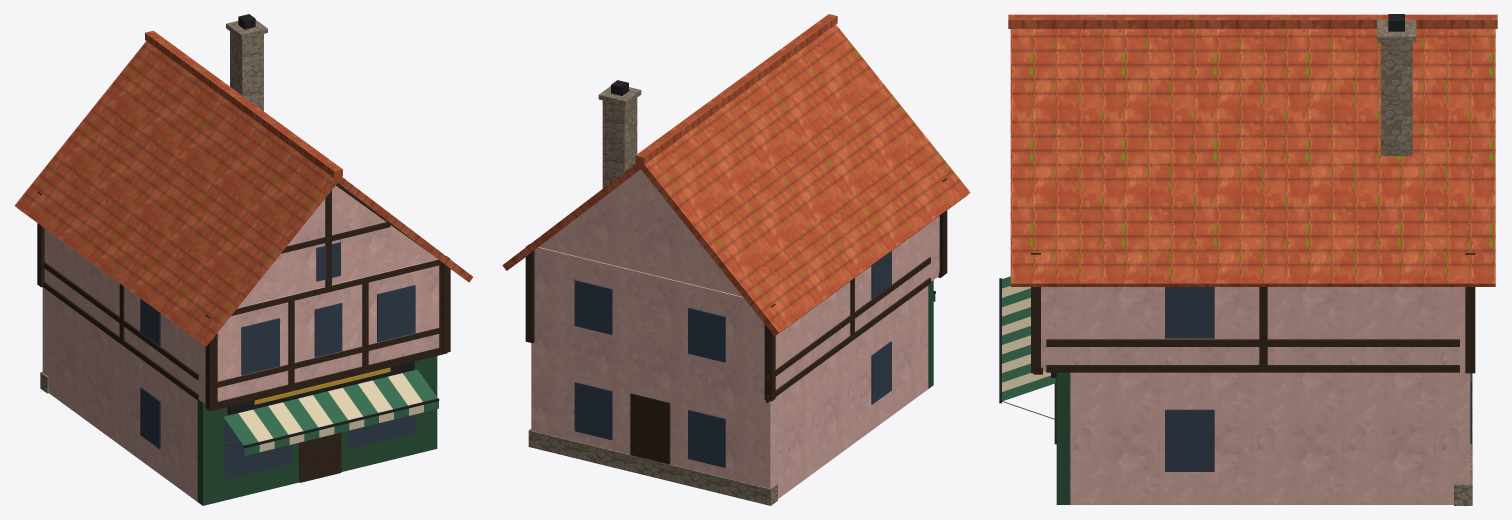
File: shop_house.glb
3 renders of one model, left to right at view 1: azimuth 30°, elevation 25°; view 2: azimuth 150°, elevation 25°; view 3: azimuth 270°, elevation 25°, orthographic. The views are drawn at different scales.
Visible parts, largest first — view 1: shop_house; view 2: shop_house; view 3: shop_house.
Boxes of the visible parts, left/top/right/bottom form: shop_house: left=14, top=14, right=472, bottom=505; shop_house: left=502, top=14, right=970, bottom=505; shop_house: left=999, top=14, right=1497, bottom=505.
Size of the model in its own units: 8.8 by 10.82 by 10.85.
Materials: 10 (4 with a texture image).
